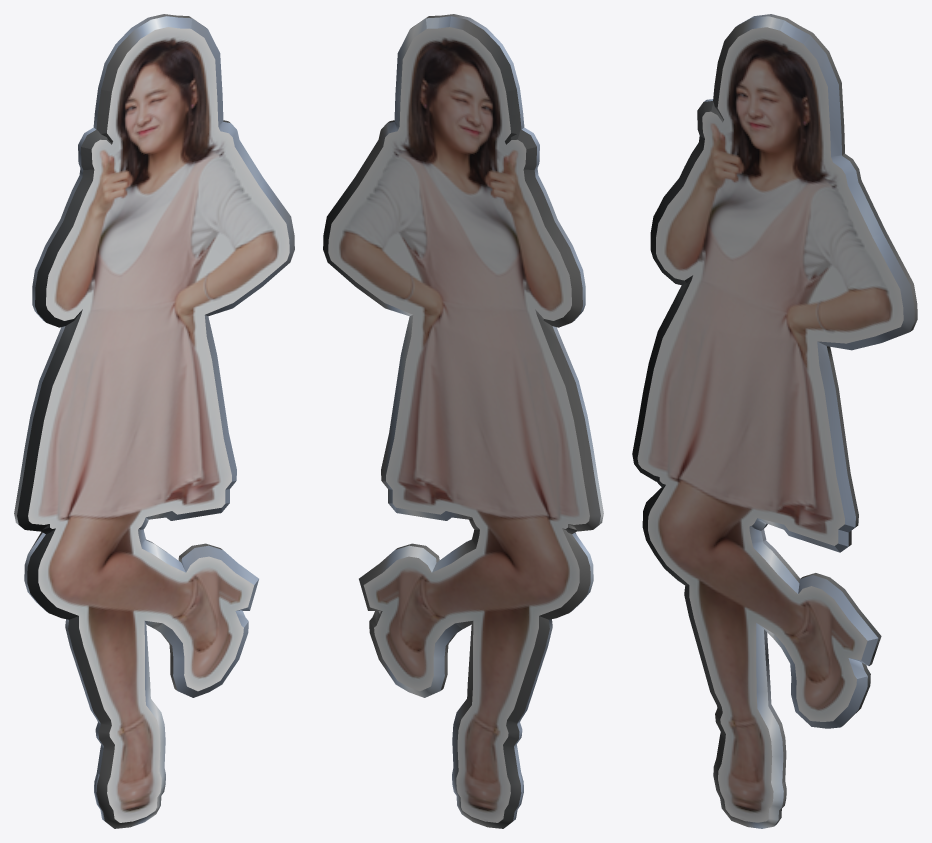
File: panel_sejeong_2.FBX
The picture shows the model from 3 angles, left to right: view 1: azimuth 30°, elevation 25°; view 2: azimuth 150°, elevation 25°; view 3: azimuth 330°, elevation 25°; orthographic projection.
Parts seen in each view (by area): view 1: panel_sejeong_2; view 2: panel_sejeong_2; view 3: panel_sejeong_2.
Part boxes in pixels (x1=…): panel_sejeong_2: x1=14, y1=14, x2=294, y2=828; panel_sejeong_2: x1=323, y1=14, x2=603, y2=828; panel_sejeong_2: x1=632, y1=14, x2=917, y2=828.
Size of the model in its own units: 72.79 by 201 by 3.96.
2 materials, 2 textured.
